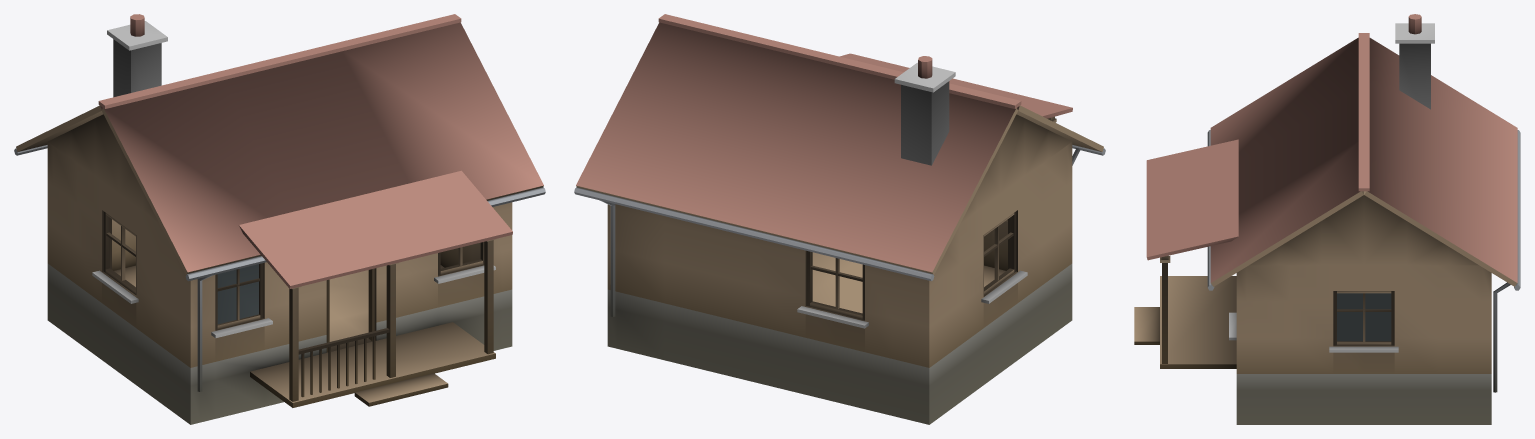
File: ranger_hut.glb
The picture shows the model from 3 angles, left to right: view 1: azimuth 30°, elevation 25°; view 2: azimuth 150°, elevation 25°; view 3: azimuth 270°, elevation 25°; orthographic projection. The views are drawn at different scales.
Visible parts, largest first — view 1: ranger_hut; view 2: ranger_hut; view 3: ranger_hut.
Boxes of the visible parts, x1,y1,x2,y2 form: ranger_hut: (14, 14, 545, 424); ranger_hut: (574, 14, 1105, 424); ranger_hut: (1134, 14, 1520, 424).
Size of the model in its own units: 7.2 by 6.24 by 7.57.
